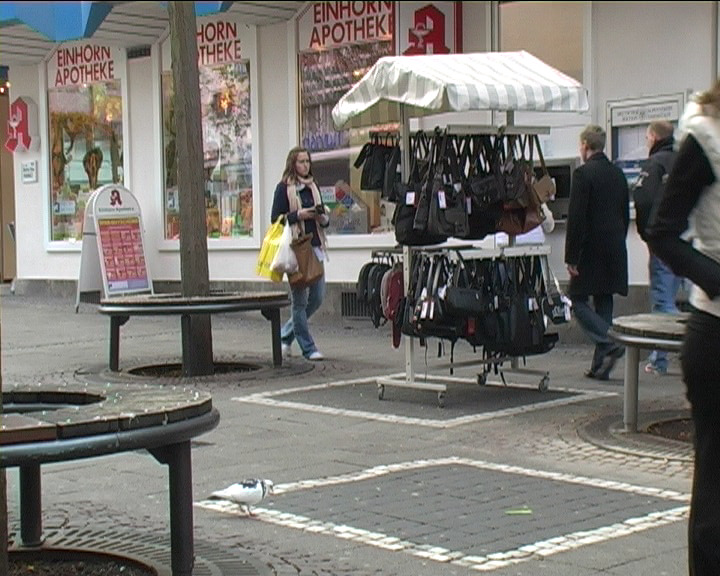undeflect: (283, 149, 326, 208)
